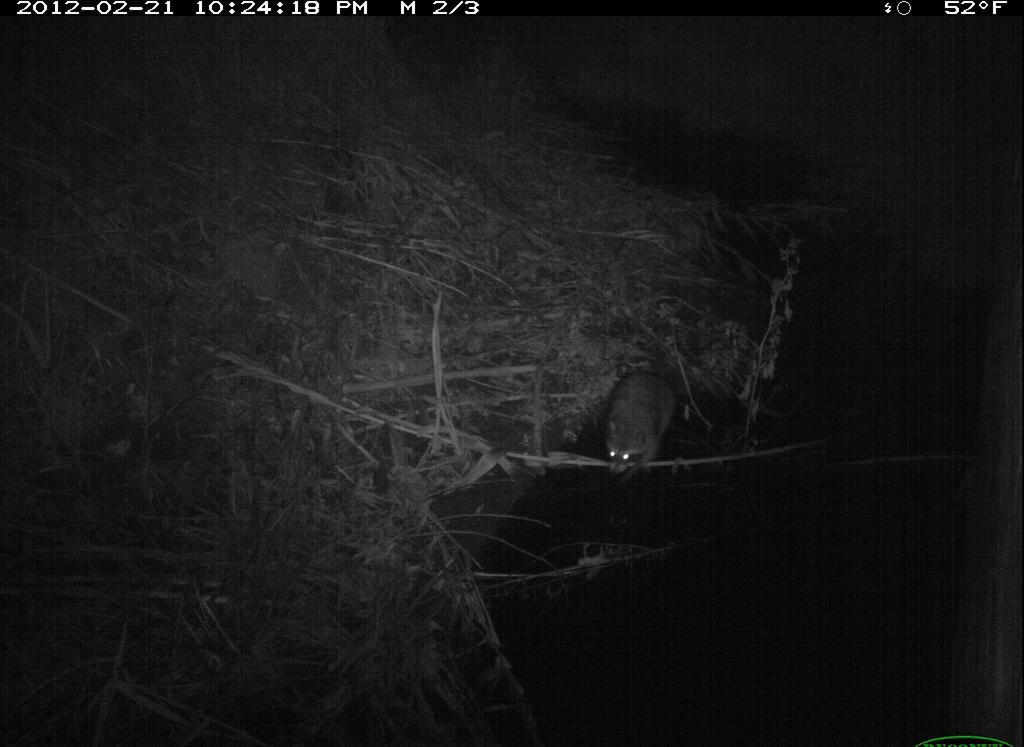raccoon: (593, 358, 688, 501)
